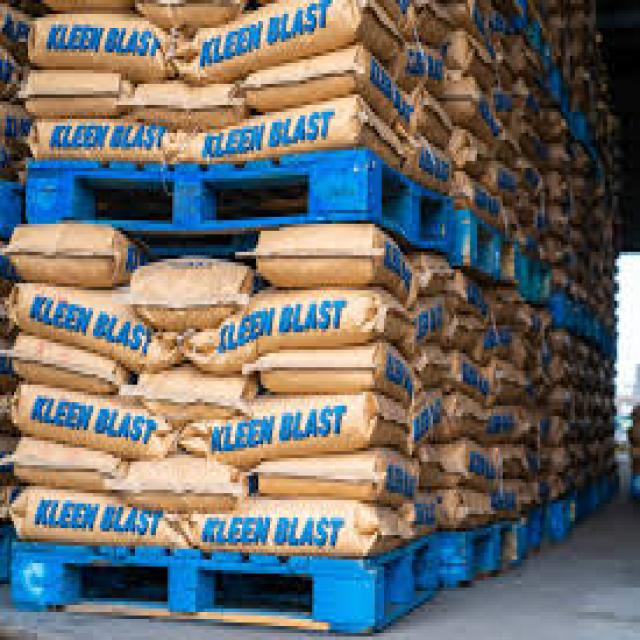cement_bag: (202, 290, 406, 371), (13, 283, 166, 371), (197, 0, 330, 75), (18, 388, 157, 458), (221, 400, 367, 461), (199, 510, 370, 560), (19, 488, 167, 543), (258, 455, 420, 503), (253, 52, 361, 117), (37, 23, 162, 73), (268, 98, 358, 162), (38, 117, 166, 162), (140, 266, 237, 323), (263, 230, 375, 278), (19, 343, 120, 396), (129, 466, 232, 515), (141, 370, 238, 418), (266, 353, 381, 393), (137, 82, 236, 128), (16, 228, 112, 273), (446, 84, 506, 146), (439, 487, 495, 527), (416, 92, 455, 143), (450, 443, 501, 480), (462, 35, 496, 85), (465, 180, 503, 223), (455, 395, 493, 438), (455, 356, 489, 404), (413, 340, 452, 380), (420, 142, 452, 185), (467, 130, 494, 177), (422, 256, 453, 291), (496, 365, 531, 395), (452, 317, 483, 345), (523, 160, 545, 199)
